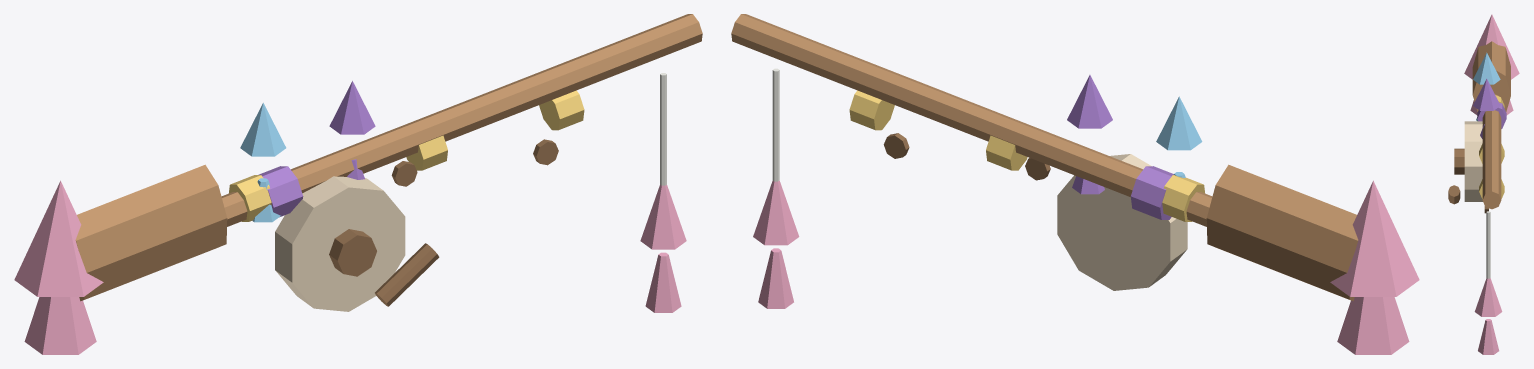
3 views of the same model, side by side, from view 1: azimuth 30°, elevation 25°; view 2: azimuth 150°, elevation 25°; view 3: azimuth 270°, elevation 25° (orthographic). The views are drawn at different scales.
Parts seen in each view (by area): view 1: long wooden fishing rod, thick handle, round reel, pink crystal handle top, pink crystal handle bottom, pink crystal lure top, reel center, small crank, pink crystal lure bottom, small crystal accent-0.52 top, small crystal accent-0.16 top, purple wrap (+4 smaller); view 2: long wooden fishing rod, thick handle, round reel, pink crystal handle top, pink crystal handle bottom, pink crystal lure top, purple wrap, pink crystal lure bottom, small crystal accent-0.52 top, small crystal accent-0.16 top, gold wrap.002, gold wrap (+2 smaller); view 3: long wooden fishing rod, round reel, thick handle, pink crystal handle top, pink crystal lure top, pink crystal lure bottom, small crystal accent-0.16 top, small crystal accent-0.52 top, line hanging, reel center, purple wrap, small crank (+3 smaller).
Part boxes in pixels (left/top/right/bottom): long wooden fishing rod: left=221, top=14, right=702, bottom=226; thick handle: left=75, top=164, right=227, bottom=301; round reel: left=275, top=176, right=405, bottom=311; pink crystal handle top: left=14, top=180, right=103, bottom=296; pink crystal handle bottom: left=24, top=297, right=96, bottom=354; pink crystal lure top: left=640, top=184, right=686, bottom=249; reel center: left=329, top=229, right=376, bottom=276; small crank: left=375, top=243, right=439, bottom=306; pink crystal lure bottom: left=645, top=252, right=681, bottom=312; small crystal accent-0.52 top: left=240, top=103, right=286, bottom=156; small crystal accent-0.16 top: left=329, top=81, right=375, bottom=134; purple wrap: left=258, top=166, right=303, bottom=217; long wooden fishing rod: left=731, top=14, right=1212, bottom=226; thick handle: left=1206, top=164, right=1358, bottom=301; round reel: left=1057, top=154, right=1187, bottom=290; pink crystal handle top: left=1330, top=180, right=1419, bottom=296; pink crystal handle bottom: left=1337, top=297, right=1409, bottom=354; pink crystal lure top: left=753, top=180, right=799, bottom=245; purple wrap: left=1130, top=166, right=1173, bottom=219; pink crystal lure bottom: left=758, top=248, right=793, bottom=308; small crystal accent-0.52 top: left=1156, top=96, right=1202, bottom=150; small crystal accent-0.16 top: left=1067, top=75, right=1112, bottom=128; gold wrap.002: left=849, top=90, right=894, bottom=130; gold wrap: left=1162, top=175, right=1204, bottom=221; long wooden fishing rod: left=1482, top=94, right=1501, bottom=209; round reel: left=1464, top=121, right=1482, bottom=201; thick handle: left=1472, top=41, right=1510, bottom=111; pink crystal handle top: left=1464, top=14, right=1519, bottom=79; pink crystal lure top: left=1474, top=278, right=1502, bottom=316; pink crystal lure bottom: left=1478, top=319, right=1499, bottom=354; small crystal accent-0.16 top: left=1473, top=78, right=1500, bottom=110; small crystal accent-0.52 top: left=1473, top=52, right=1500, bottom=84; line hanging: left=1486, top=211, right=1490, bottom=278; reel center: left=1454, top=148, right=1464, bottom=174; purple wrap: left=1477, top=103, right=1506, bottom=128; small crank: left=1448, top=185, right=1460, bottom=204.
Bounding box in the file's own units: 2.71 × 1.17 × 0.417.
